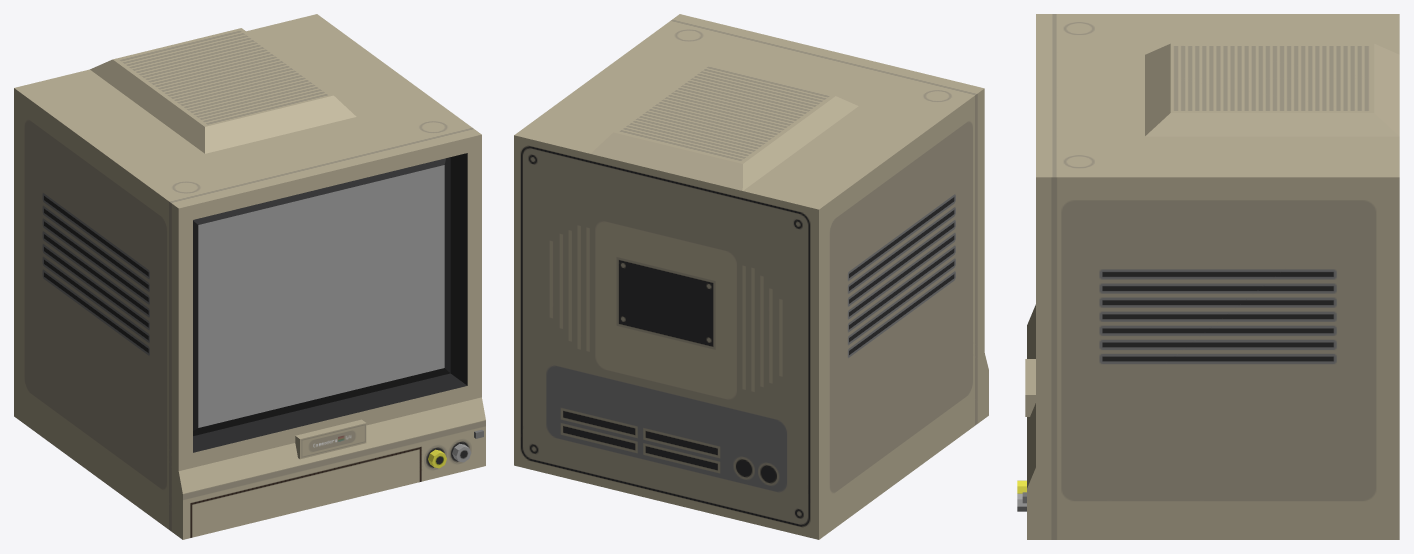
The model's file is Monitor.gltf.
The picture shows the model from 3 angles, left to right: view 1: azimuth 30°, elevation 25°; view 2: azimuth 150°, elevation 25°; view 3: azimuth 270°, elevation 25°; orthographic projection. The views are drawn at different scales.
Parts seen in each view (by area): view 1: node-0; view 2: node-0; view 3: node-0.
Boxes of the visible parts, box(x1,y1,x2,y2) form: node-0: box(14, 14, 485, 539); node-0: box(514, 14, 988, 539); node-0: box(1017, 14, 1399, 539).
Size of the model in its own units: 213 by 232 by 210.
Materials: 1 (1 with a texture image).
